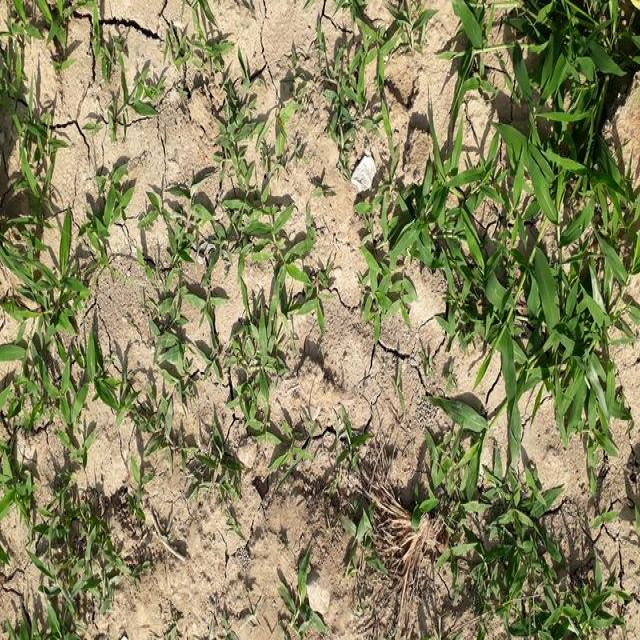weed: (438, 1, 640, 417), (0, 237, 129, 598), (160, 311, 316, 582), (472, 440, 640, 640), (170, 87, 271, 281), (326, 25, 440, 196), (18, 43, 115, 237), (356, 195, 448, 313), (256, 238, 341, 347), (378, 287, 437, 410)
